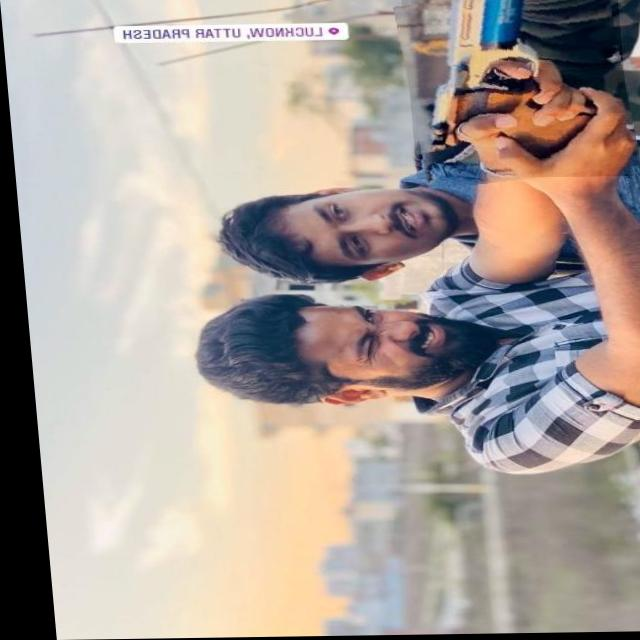handgun: (397, 0, 635, 185)
